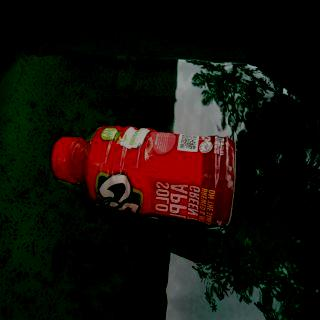bottle: (51, 124, 237, 228)
